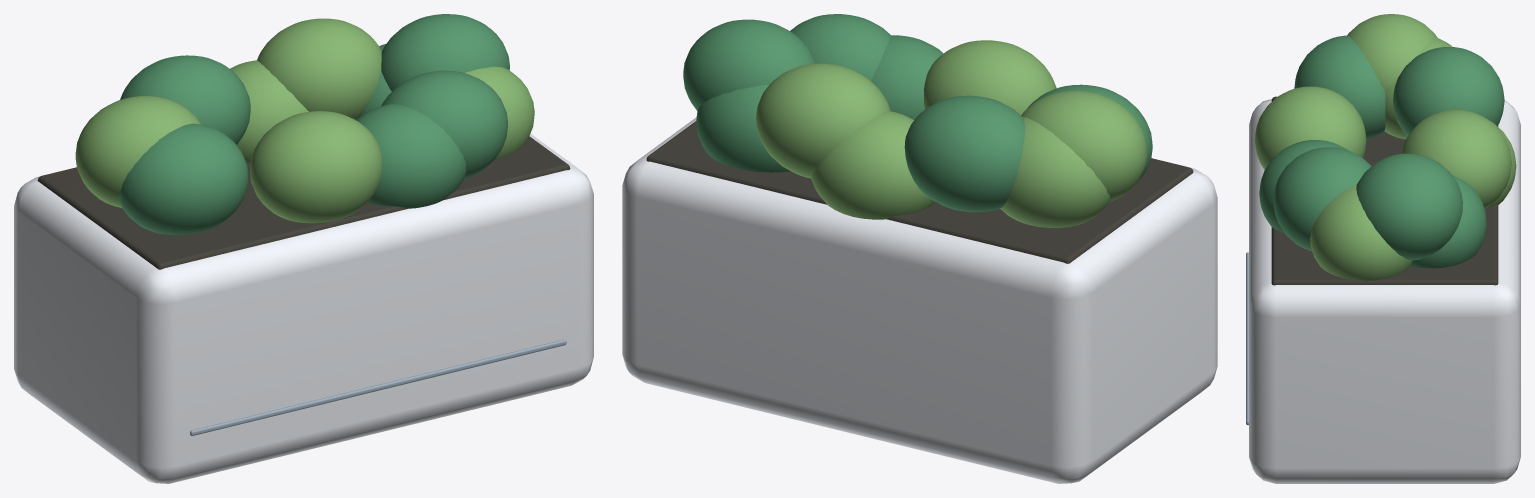
Rendered from GardenPlanter.glb.
The picture shows the model from 3 angles, left to right: view 1: azimuth 30°, elevation 25°; view 2: azimuth 150°, elevation 25°; view 3: azimuth 270°, elevation 25°; orthographic projection. The views are drawn at different scales.
Parts seen in each view (by area): view 1: PlanterShell, SoilInset, Foliage.004, Foliage.007, Foliage.008, Foliage.009, Foliage.002, Foliage.001, Foliage.011, Foliage.005, Foliage, Foliage.006 (+1 smaller); view 2: PlanterShell, SoilInset, Foliage.005, Foliage.008, Foliage, Foliage.002, Foliage.011, Foliage.010, Foliage.004, Foliage.003, Foliage.001, Foliage.009 (+1 smaller); view 3: PlanterShell, Foliage.011, Foliage.005, SoilInset, Foliage.008, Foliage.004, Foliage.006, Foliage.001, Foliage.007, Foliage.002, Foliage.003, Foliage.009 (+3 smaller).
Part boxes in pixels (bbox=[...]): PlanterShell: bbox=[14, 133, 593, 483]; SoilInset: bbox=[37, 136, 570, 269]; Foliage.004: bbox=[250, 111, 382, 223]; Foliage.007: bbox=[118, 123, 248, 235]; Foliage.008: bbox=[257, 18, 381, 119]; Foliage.009: bbox=[356, 104, 466, 208]; Foliage.002: bbox=[75, 96, 201, 207]; Foliage.001: bbox=[381, 70, 507, 178]; Foliage.011: bbox=[381, 14, 509, 91]; Foliage.005: bbox=[120, 55, 250, 144]; Foliage: bbox=[230, 60, 308, 163]; Foliage.006: bbox=[465, 66, 534, 159]; PlanterShell: bbox=[622, 117, 1217, 483]; SoilInset: bbox=[646, 121, 1193, 263]; Foliage.005: bbox=[904, 95, 1024, 212]; Foliage.008: bbox=[756, 63, 890, 178]; Foliage: bbox=[811, 111, 934, 219]; Foliage.002: bbox=[1021, 90, 1147, 202]; Foliage.011: bbox=[683, 19, 816, 110]; Foliage.010: bbox=[1000, 117, 1110, 227]; Foliage.004: bbox=[923, 40, 1056, 115]; Foliage.003: bbox=[696, 84, 790, 172]; Foliage.001: bbox=[790, 14, 890, 80]; Foliage.009: bbox=[871, 35, 943, 119]; PlanterShell: bbox=[1249, 99, 1520, 483]; Foliage.011: bbox=[1356, 153, 1462, 260]; Foliage.005: bbox=[1393, 47, 1504, 136]; SoilInset: bbox=[1271, 96, 1498, 285]; Foliage.008: bbox=[1401, 109, 1511, 208]; Foliage.004: bbox=[1254, 86, 1366, 169]; Foliage.006: bbox=[1310, 185, 1412, 281]; Foliage.001: bbox=[1273, 147, 1371, 251]; Foliage.007: bbox=[1294, 35, 1385, 139]; Foliage.002: bbox=[1347, 14, 1437, 91]; Foliage.003: bbox=[1411, 175, 1486, 268]; Foliage.009: bbox=[1259, 140, 1347, 233].
Bounding box in the file's own units: 3.2 × 2.18 × 1.82.
